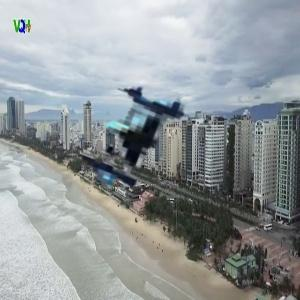drone: (60, 44, 269, 253)
